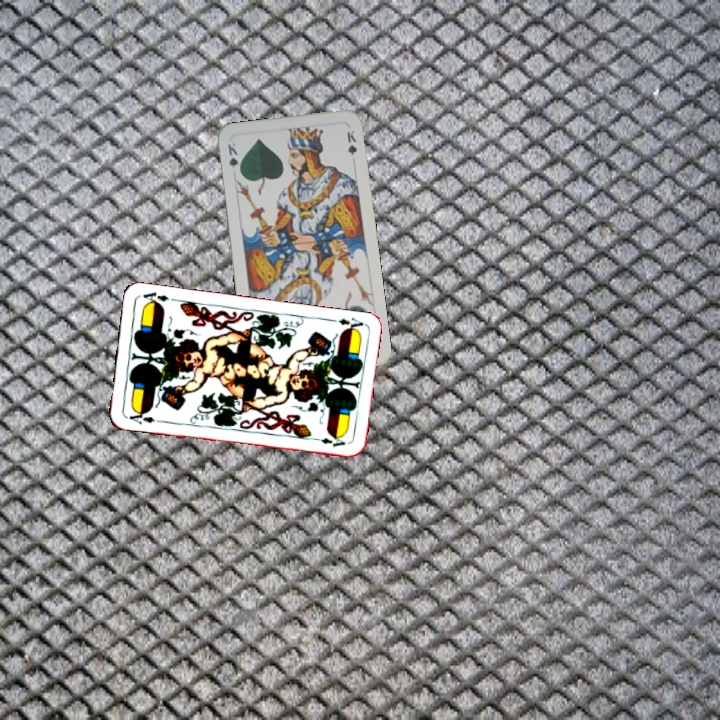EA: (122, 406, 163, 427), (325, 313, 366, 334)
GK: (224, 139, 243, 177)
